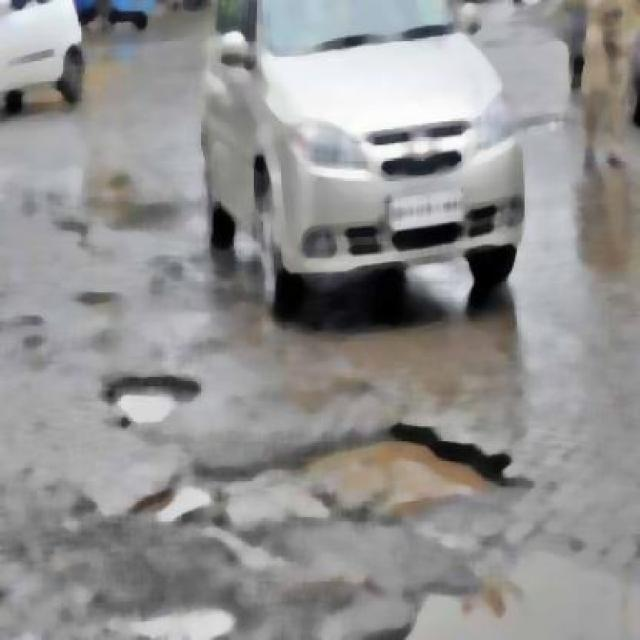Pothole: (311, 412, 512, 526), (416, 558, 638, 638), (112, 568, 254, 638), (109, 358, 200, 438), (144, 457, 224, 535)
